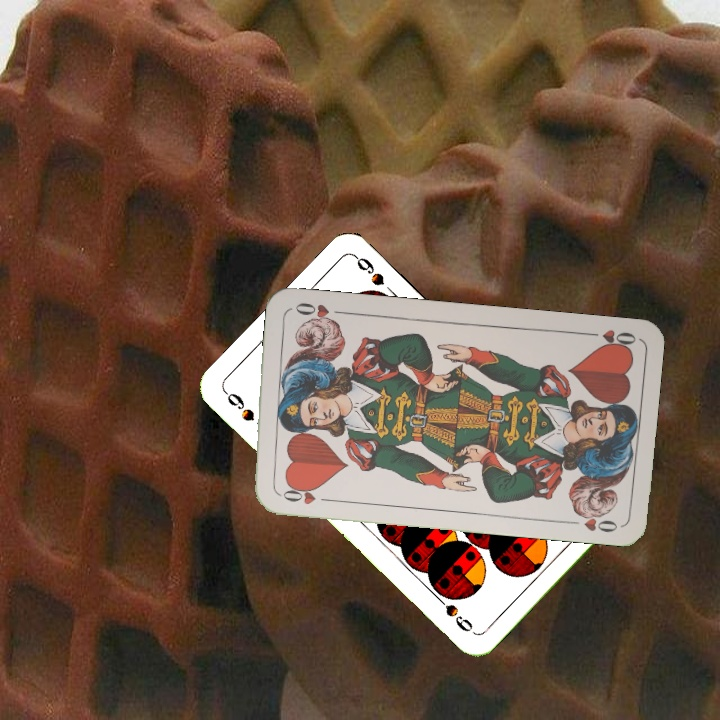HO: (579, 325, 639, 352), (274, 480, 333, 507)
S9: (220, 387, 258, 424)
